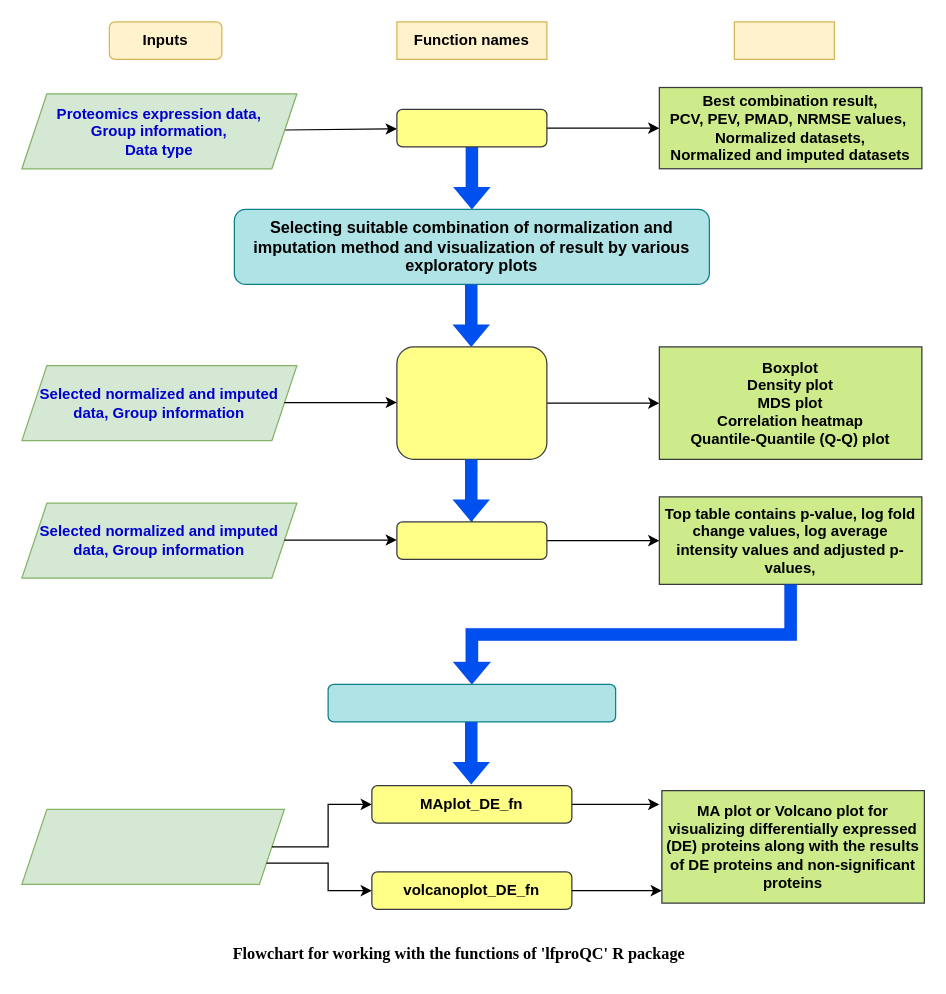
The diagram is 946 pixels wide and 994 high, and some of its shapes have lost their labels. The centre of each missing label's shape, as x and y in pixels:
"best_combination" belongs at point 471,127.
"Boxplot_data Densityplot_data MDSplot_data Corrplot_data QQplot_data" belongs at point 471,402.
"Differential expression analysis" belongs at point 471,702.
"Outputs" belongs at point 783,40.
"Top table, cut-off limits and p-value" belongs at point 152,846.
"top_table_fn" belongs at point 471,540.
